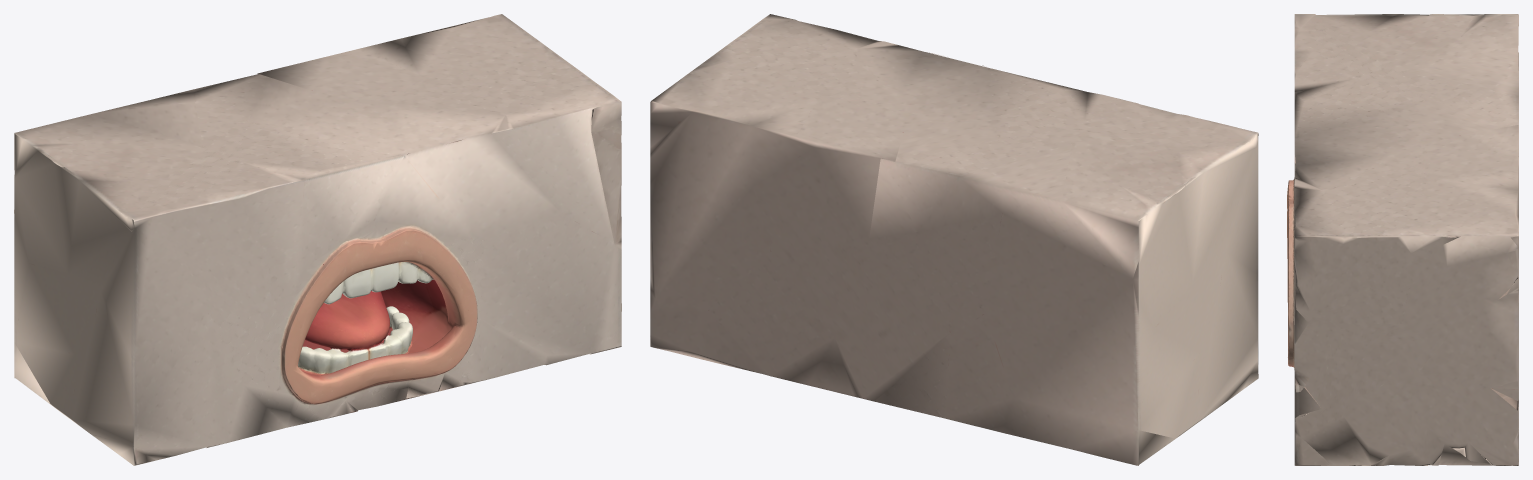
The model's file is Lobby_EntranceGate.glb.
3 views of the same model, side by side, from view 1: azimuth 30°, elevation 25°; view 2: azimuth 150°, elevation 25°; view 3: azimuth 270°, elevation 25° (orthographic). The views are drawn at different scales.
Bounding box in the file's own units: 1.9 × 0.9134 × 0.8362.
1 material, 1 textured.
